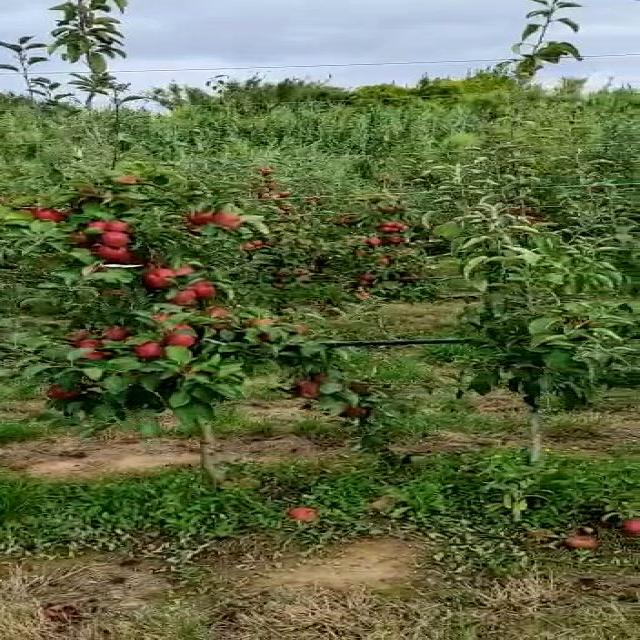100-_ripeness: (147, 268, 184, 290), (102, 229, 136, 250), (207, 208, 242, 226), (78, 341, 113, 358), (89, 247, 129, 261), (31, 205, 62, 223), (164, 329, 192, 347), (134, 345, 166, 358), (171, 291, 200, 305), (304, 383, 326, 398)
